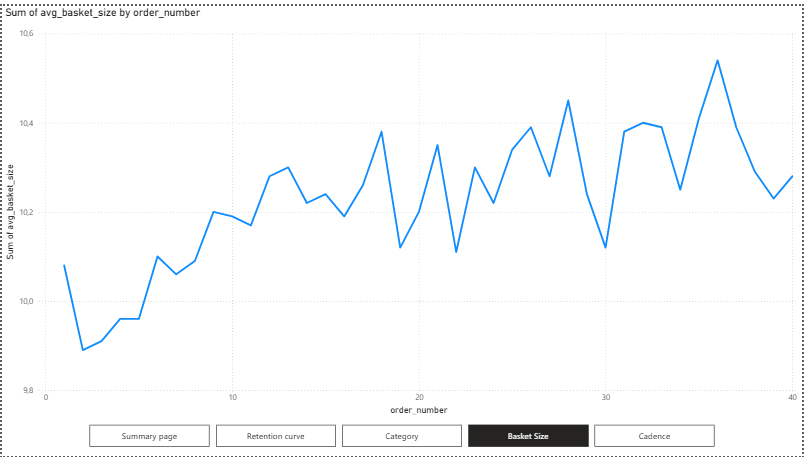

Layout of this report page (visuals, bound fields, positions):
{"tool":"powerbi","page":{"name":"Basket Size","canvas":[1280,720],"ordinal":3},"visuals":[{"type":"lineChart","fields":{"Category":["public vw_basket_size_by_sequence.order_number"],"Y":["Sum(public vw_basket_size_by_sequence.avg_basket_size)"]},"box":[0,0,1279.6,658.6],"z":0},{"type":"pageNavigator","box":[140.4,670.5,1000.8,35.6],"z":1}]}

Visuals, with their boxes in screenshot pixels (x1, y1, x2, y2), scaled from the page's 1280x720 canvas onto the 805x457 screenshot:
lineChart - public vw_basket_size_by_sequence.order_number x Sum(public vw_basket_size_by_sequence.avg_basket_size): x1=0 y1=0 x2=804 y2=418
pageNavigator: x1=88 y1=426 x2=718 y2=448
